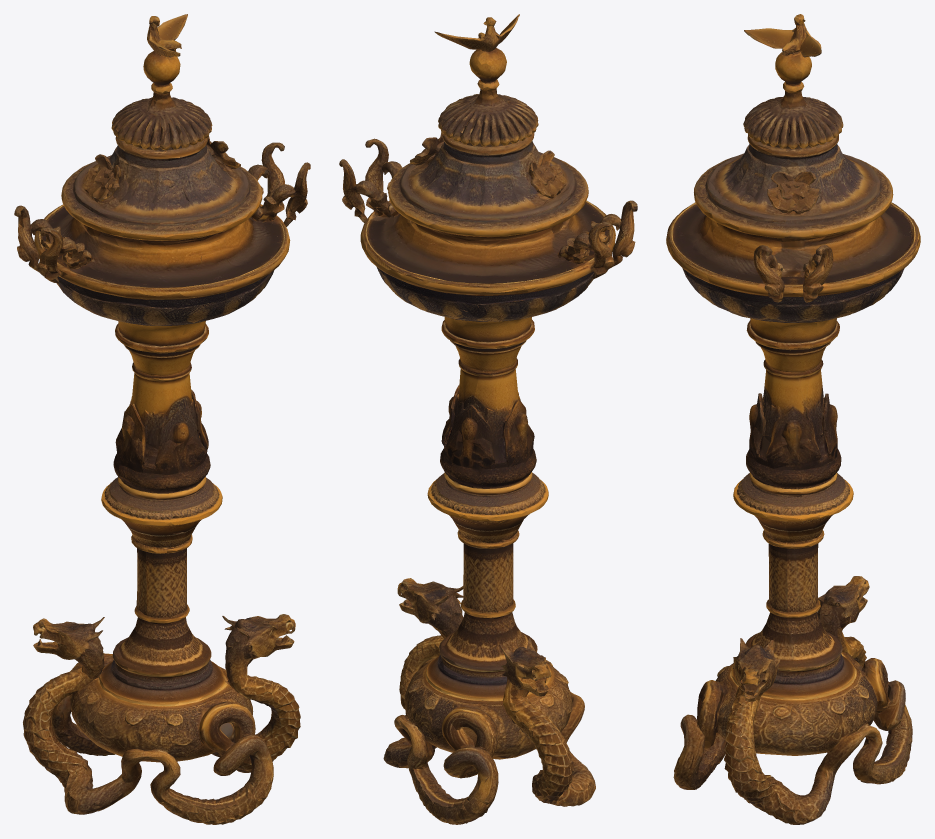
Rendered from censer.glb.
The picture shows the model from 3 angles, left to right: view 1: azimuth 30°, elevation 25°; view 2: azimuth 150°, elevation 25°; view 3: azimuth 270°, elevation 25°; orthographic projection.
Size of the model in its own units: 0.7001 by 1.9 by 0.5732.
Materials: 1 (1 with a texture image).
